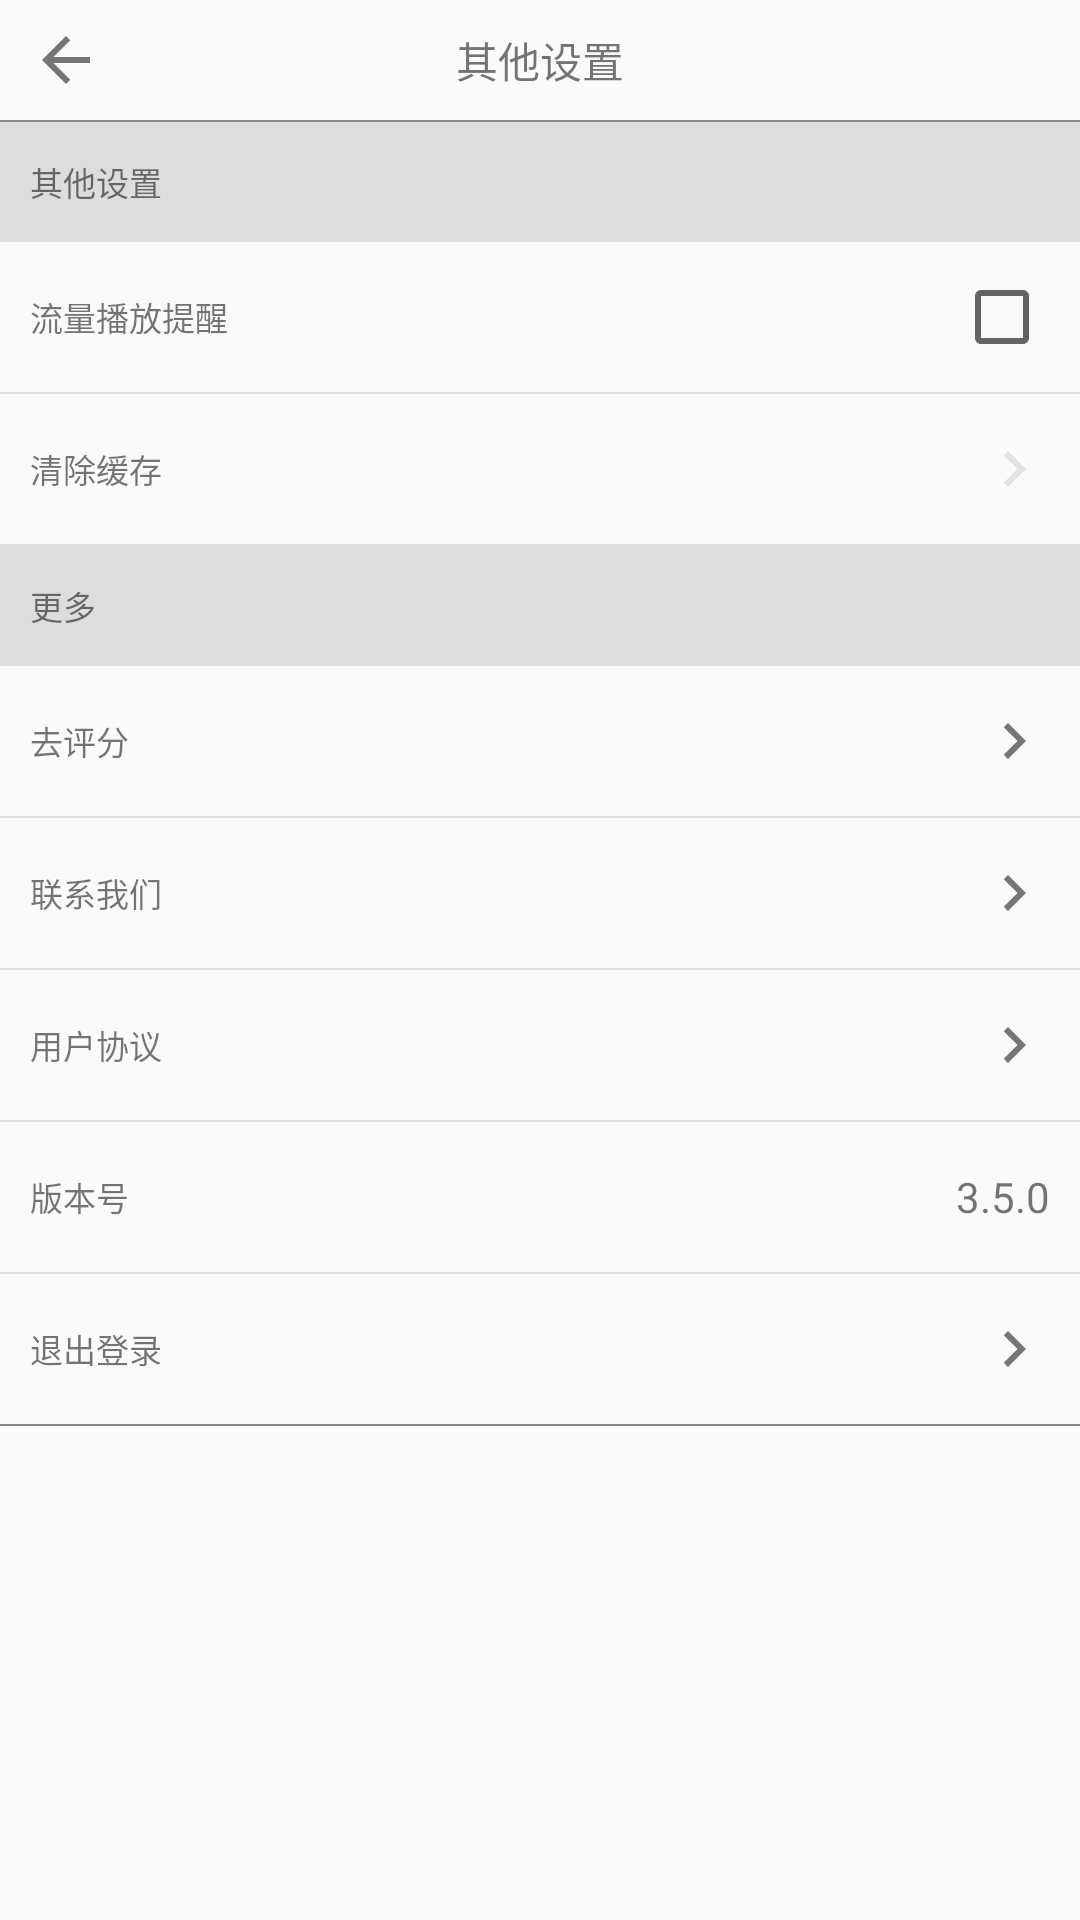

Screen size 1080px×1920px. Icon name, then its center in pixels as point (x, y):
arrow back: point (66, 60)
right: point (1015, 741), point (1015, 893), point (1015, 1045), point (1015, 1349)
